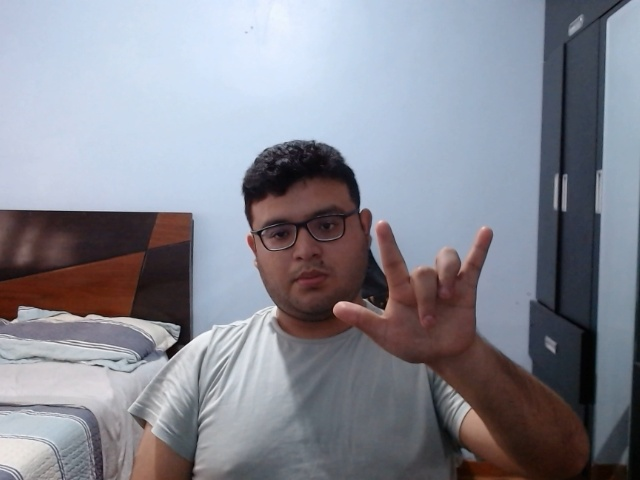I love you: (332, 217, 495, 375)
